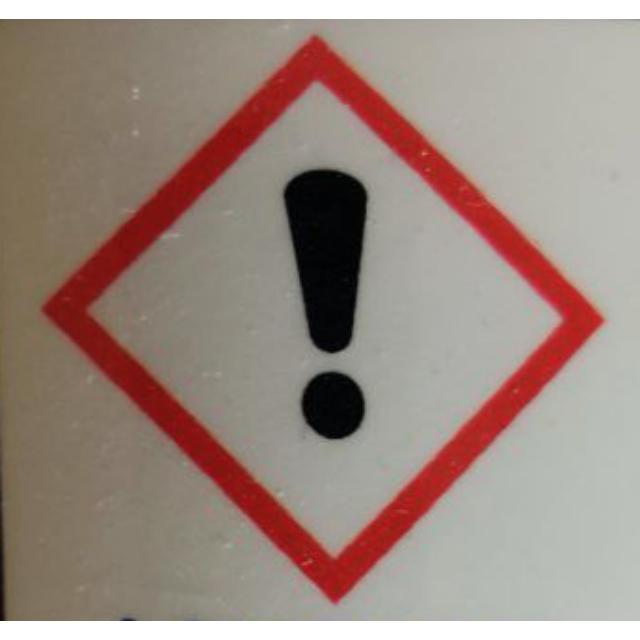health-ozone layer hazard: (38, 32, 600, 606)
